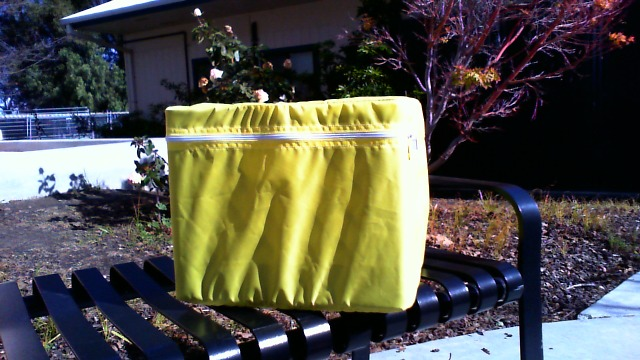cube: (159, 104, 433, 308)
